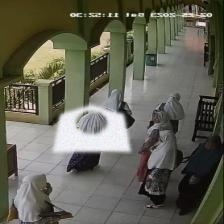Mukena: (52, 105, 131, 151)
